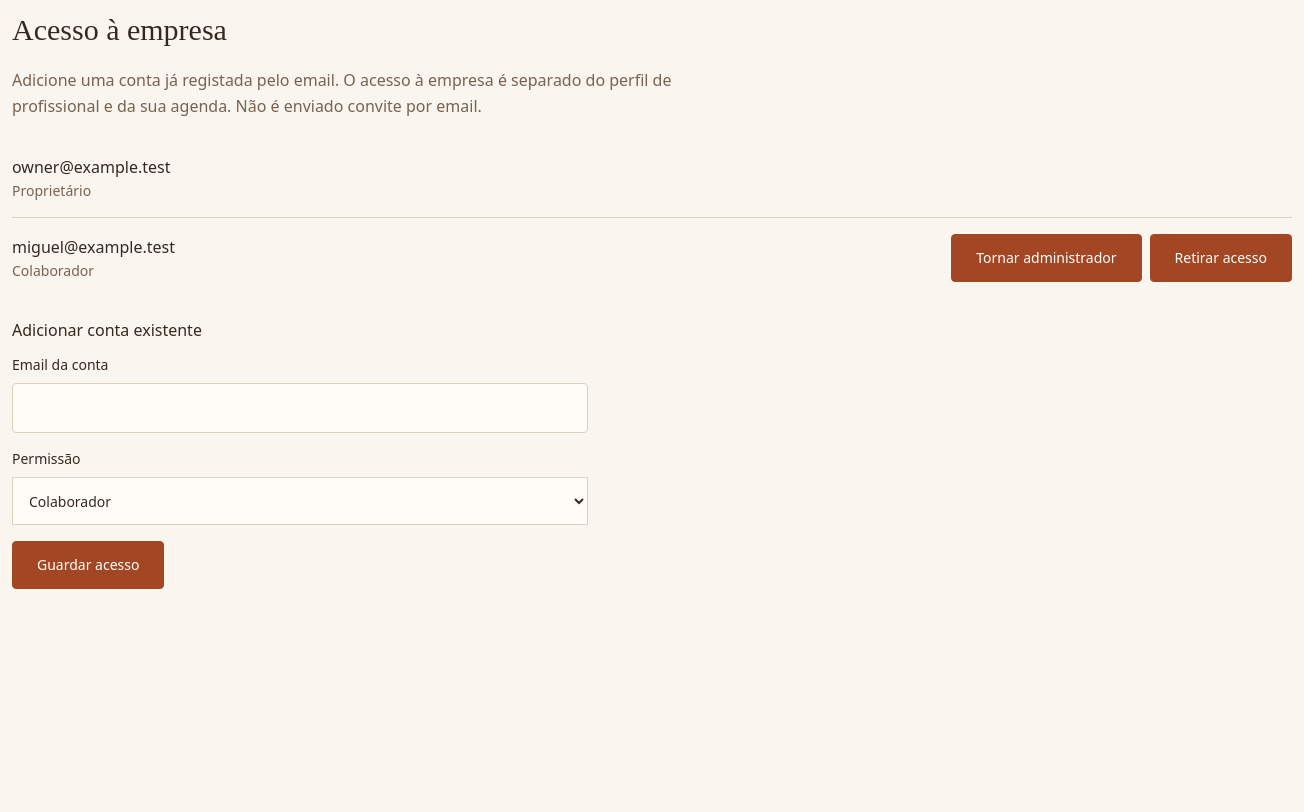
Test: adiciona por email normalizado e atualiza lista
Expected: the text "miguel@example.test" is shown, [12,235,175,261]
Type " NOVO@example.test " into the field labelled "Email da conta". click: (300, 408)
box: [12,383,588,433]
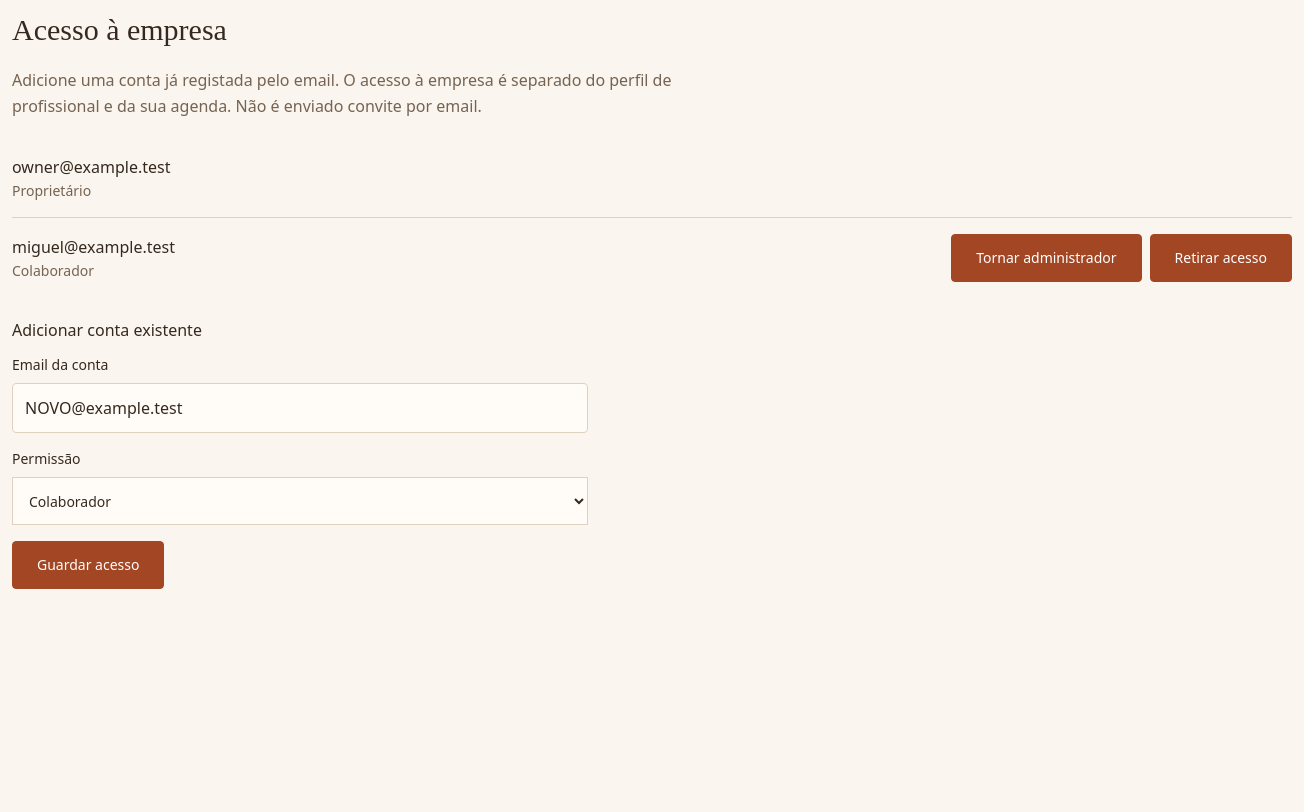
Click the button "Guardar acesso". click: (88, 565)
box: [12,541,164,589]
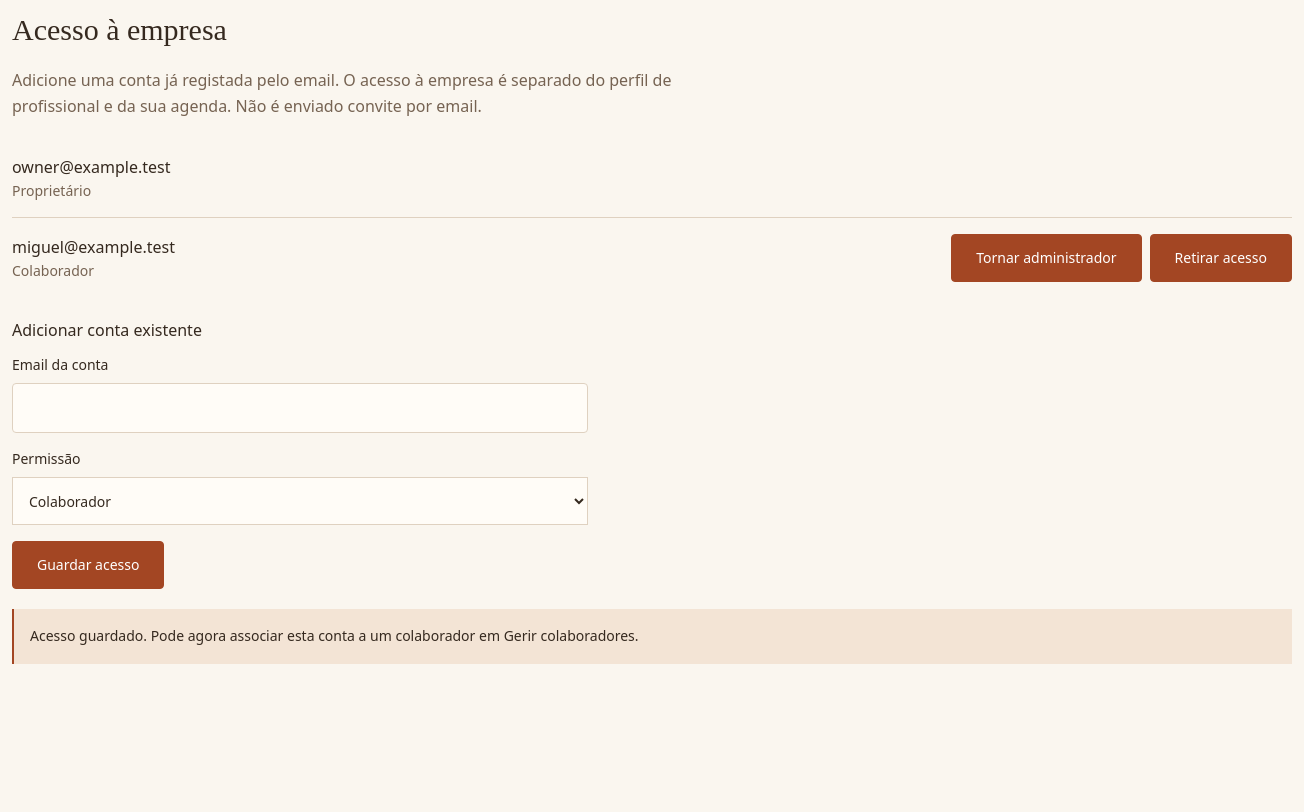
Expected: the text "Acesso guardado" is shown, [30,626,639,645]
